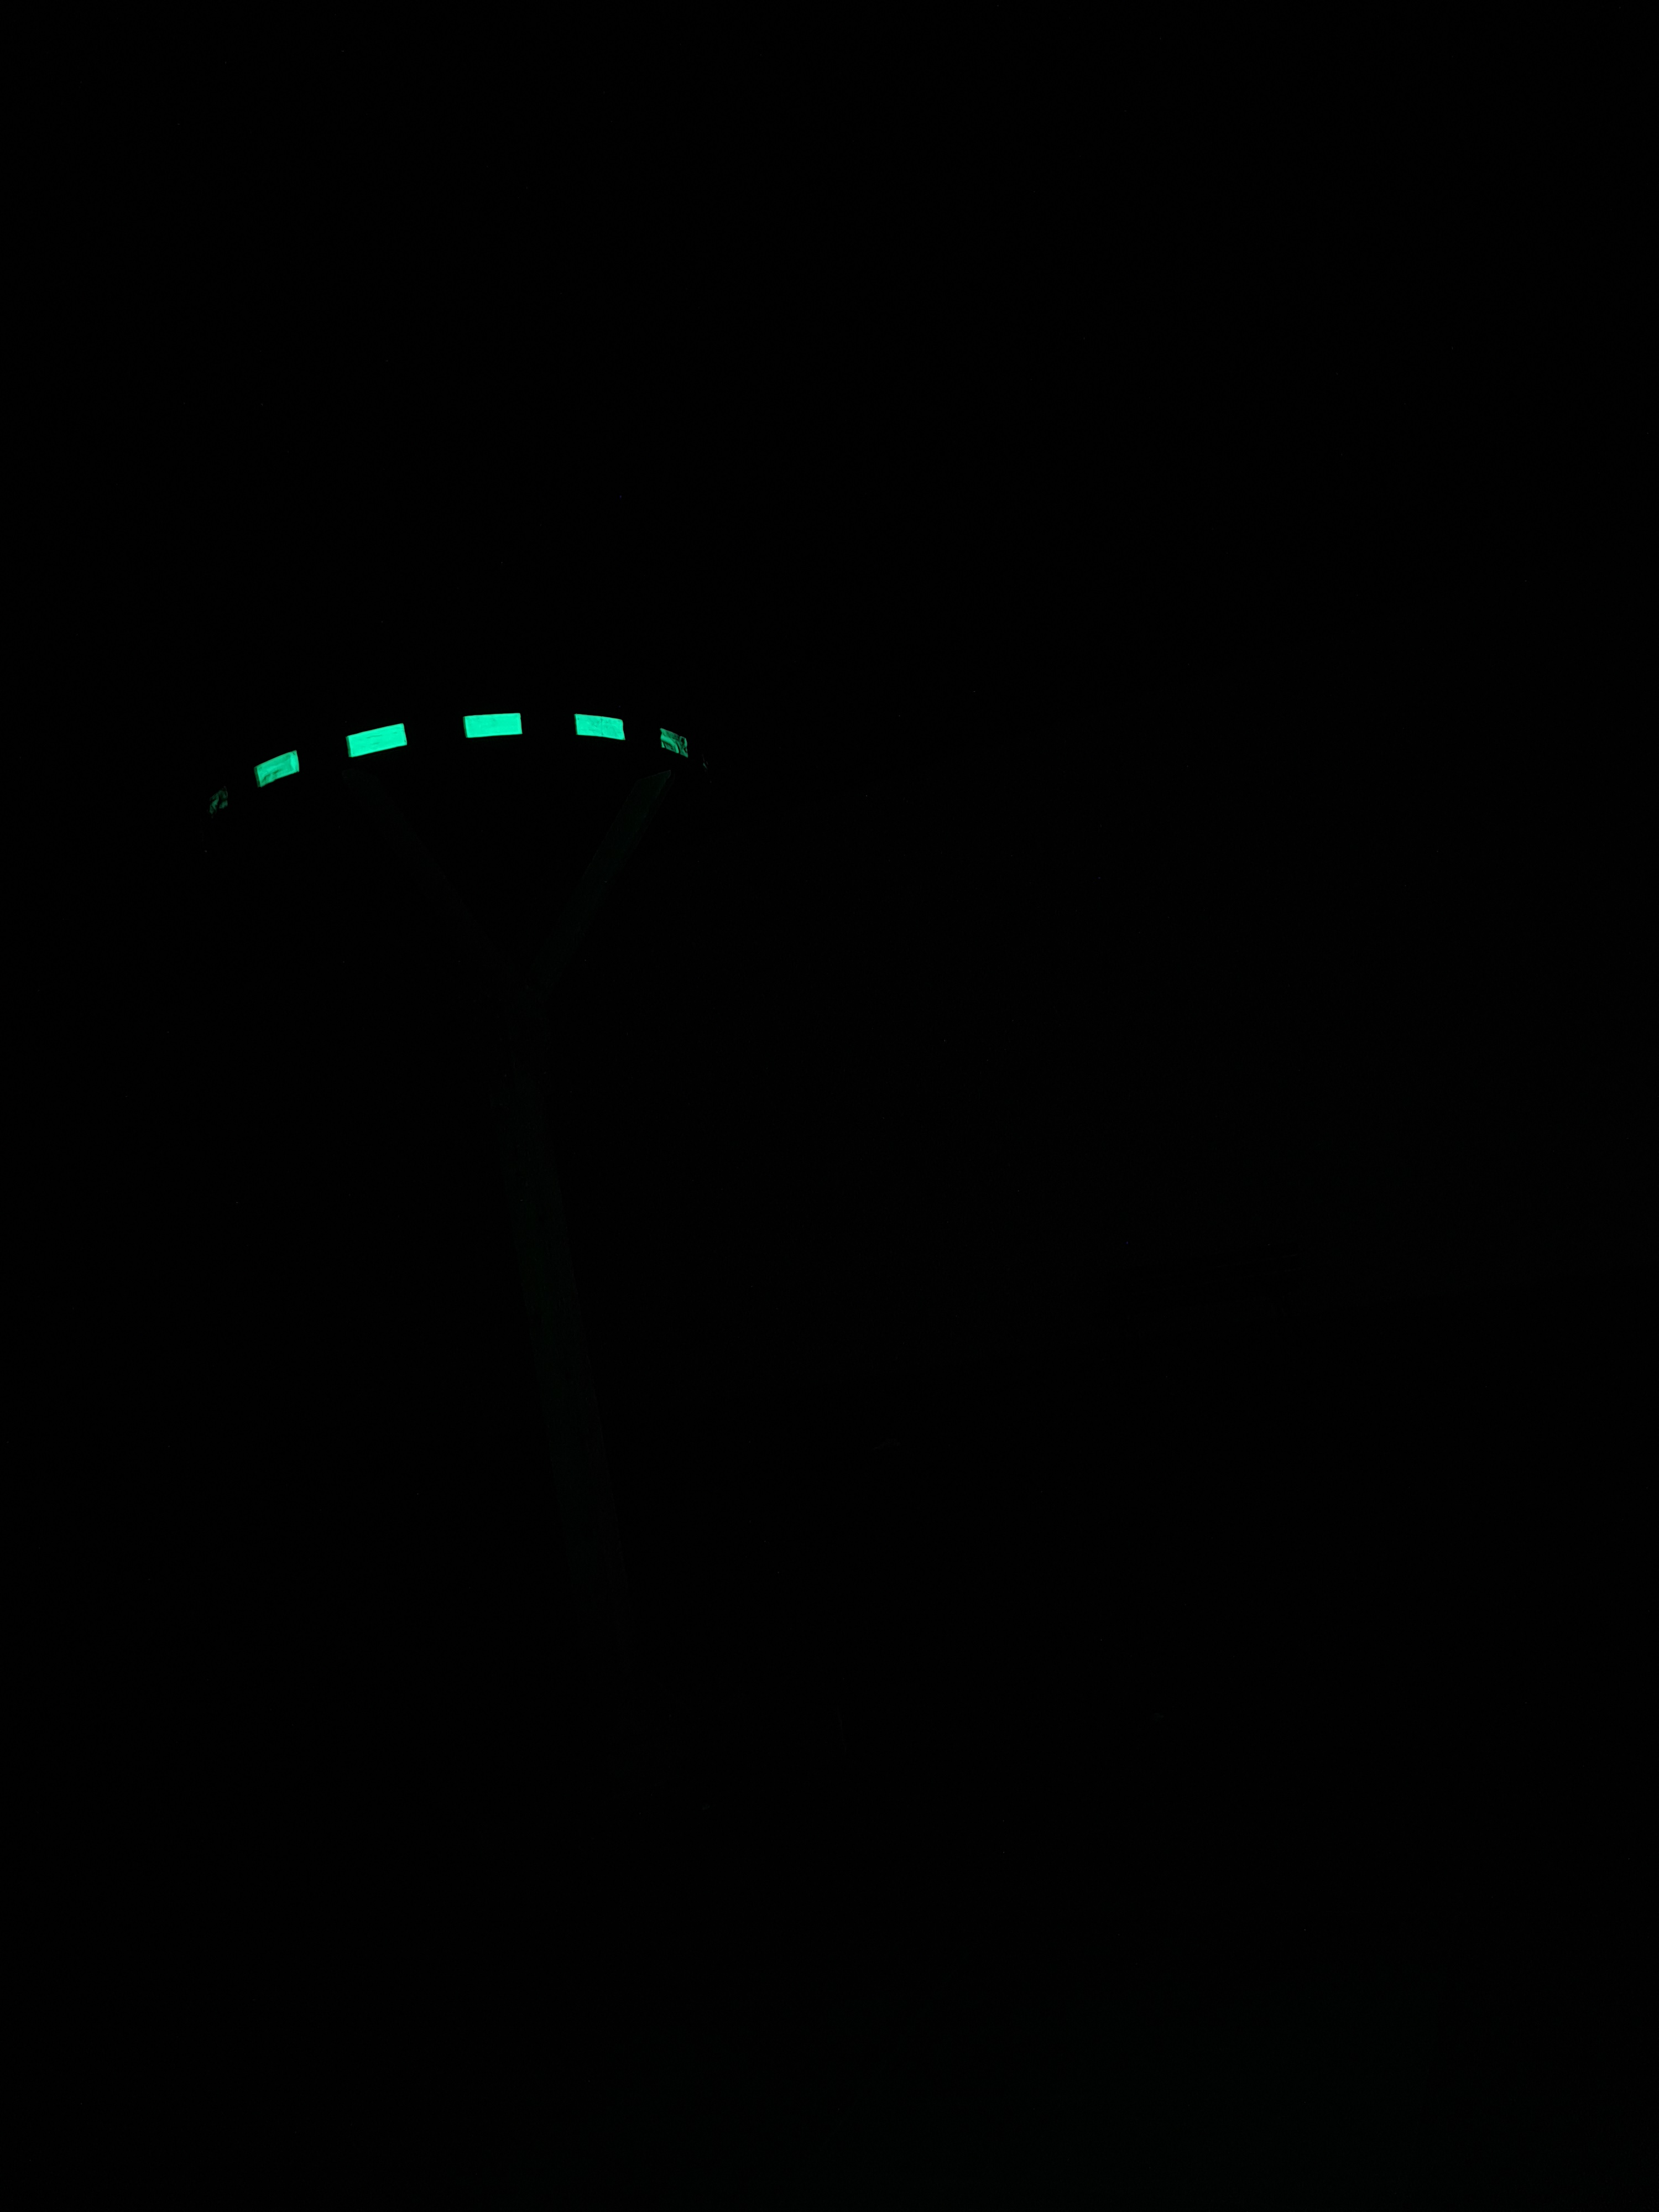hoop: (202, 700, 704, 817)
